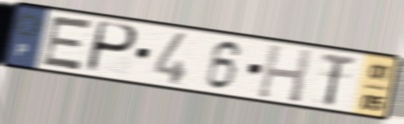4: (151, 29, 190, 87)
6: (206, 39, 243, 92)
E: (38, 13, 97, 73)
H: (255, 42, 315, 105)
P: (83, 19, 141, 76)
T: (319, 51, 359, 108)
